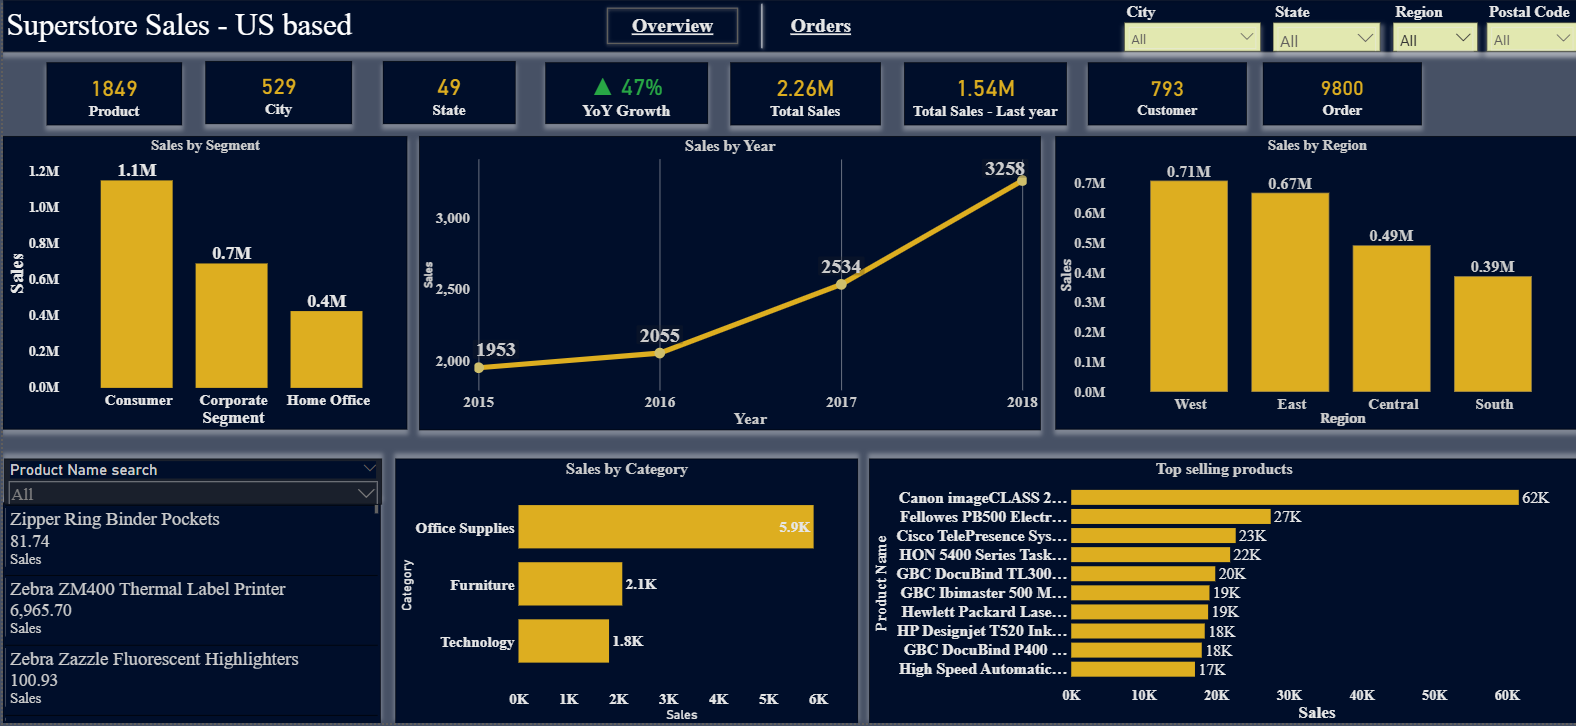

Layout of this report page (visuals, bound fields, positions):
{"tool":"powerbi","page":{"name":"Overview","canvas":[3700,1700],"ordinal":0},"visuals":[{"type":"card","fields":{"Values":["Count(train.Customer ID)"]},"box":[2549.4,146.9,373,146.9],"z":0},{"type":"barChart","title":"Sales by Category","fields":{"Category":["train.Category"],"Y":["CountNonNull(train.Sales)"]},"box":[922.9,1077.2,1086.1,623.2],"z":1000},{"type":"card","fields":{"Values":["CountNonNull(train.Customer ID)"]},"box":[2960.6,146.9,373,146.9],"z":2000},{"type":"lineChart","fields":{"Y":["CountNonNull(train.Sales)"],"Category":["DateTable.Date.Variation.Date Hierarchy.Year"]},"box":[978.1,320.1,1459.8,690.2],"z":3000},{"type":"card","fields":{"Values":["train.Total Sales"]},"box":[1709.4,146.9,352.5,146.9],"z":4000},{"type":"shape","box":[0,0,3700,122.1],"z":5000},{"type":"slicer","fields":{"Values":["train.State"]},"box":[2985.4,53.4,252.2,68.3],"z":6000},{"type":"slicer","fields":{"Values":["train.Region"]},"box":[3267.3,53.4,198.8,68.3],"z":7000},{"type":"slicer","fields":{"Values":["train.City"]},"box":[2635.2,53.4,320.5,68.3],"z":8000},{"type":"textbox","box":[2635.5,0,197.5,70],"z":9000},{"type":"textbox","box":[2984.1,0,102.8,70.5],"z":10000},{"type":"textbox","box":[3266.1,0,132.2,61.7],"z":11000},{"type":"multiRowCard","fields":{"Values":["train.Product Name","Sum(train.Sales)"]},"box":[0,1181.1,887.3,519.3],"z":12000},{"type":"slicer","fields":{"Values":["train.Product Name"]},"box":[3,1077.2,887.3,106.8],"z":13000},{"type":"barChart","title":"Top selling products","fields":{"Category":["train.Product Name"],"Y":["Sum(train.Sales)"]},"box":[2034.5,1077.3,1666.3,623.9],"z":14000},{"type":"columnChart","fields":{"Category":["train.Segment"],"Y":["Sum(train.Sales)"]},"box":[0,320.5,949.6,688.5],"z":15000},{"type":"slicer","fields":{"Values":["train.Postal Code"]},"box":[3486.9,53.4,213.7,68.3],"z":16000},{"type":"textbox","box":[3486.9,0,213.7,71.2],"z":17000},{"type":"clusteredColumnChart","fields":{"Category":["train.Region"],"Y":["Sum(train.Sales)"]},"box":[2472,320.5,1228.6,688.5],"z":18000},{"type":"card","fields":{"Values":["Count(train.State)"]},"box":[892.9,143.9,311.3,146.9],"z":19000},{"type":"card","fields":{"Values":["Count(train.City)"]},"box":[475.8,143.9,343.6,146.9],"z":20000},{"type":"card","fields":{"Values":["Count(train.Product Name)"]},"box":[102.8,146.9,317.2,146.9],"z":21000},{"type":"actionButton","box":[1409.8,9.2,326.7,103.8],"z":22000},{"type":"actionButton","box":[1831.1,9.2,183.2,103.8],"z":23000},{"type":"shape","box":[1736.4,0,94.6,122.1],"z":24000},{"type":"textbox","box":[3.5,10.4,888.6,104.1],"z":25000},{"type":"card","fields":{"Values":["train.Sales_LastYears"]},"box":[2117.7,146.9,381.8,146.9],"z":26000},{"type":"card","fields":{"Values":["train.Sales KPI"]},"box":[1274.7,146.9,381.8,143.9],"z":27000}]}

Visuals, with their boxes in screenshot pixels (x1, y1, x2, y2), scaled from the page's 3700x1700 canvas onto the 1576x726 screenshot:
card - Count(train.Customer ID): 1086:63:1245:125
"Sales by Category" barChart: 393:460:856:725
card - CountNonNull(train.Customer ID): 1261:63:1420:125
lineChart - CountNonNull(train.Sales) x DateTable.Date.Variation.Date Hierarchy.Year: 417:137:1038:431
card - train.Total Sales: 728:63:878:125
shape: 0:0:1575:52
slicer - train.State: 1272:23:1379:52
slicer - train.Region: 1392:23:1476:52
slicer - train.City: 1122:23:1259:52
textbox: 1123:0:1207:30
textbox: 1271:0:1315:30
textbox: 1391:0:1447:26
multiRowCard - train.Product Name x Sum(train.Sales): 0:504:378:725
slicer - train.Product Name: 1:460:379:506
"Top selling products" barChart: 867:460:1575:725
columnChart - train.Segment x Sum(train.Sales): 0:137:404:431
slicer - train.Postal Code: 1485:23:1575:52
textbox: 1485:0:1575:30
clusteredColumnChart - train.Region x Sum(train.Sales): 1053:137:1575:431
card - Count(train.State): 380:61:513:124
card - Count(train.City): 203:61:349:124
card - Count(train.Product Name): 44:63:179:125
actionButton: 600:4:740:48
actionButton: 780:4:858:48
shape: 740:0:780:52
textbox: 1:4:380:49
card - train.Sales_LastYears: 902:63:1065:125
card - train.Sales KPI: 543:63:706:124
